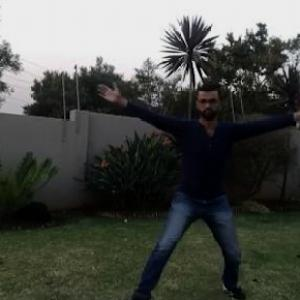takeoff: (120, 72, 299, 294)
